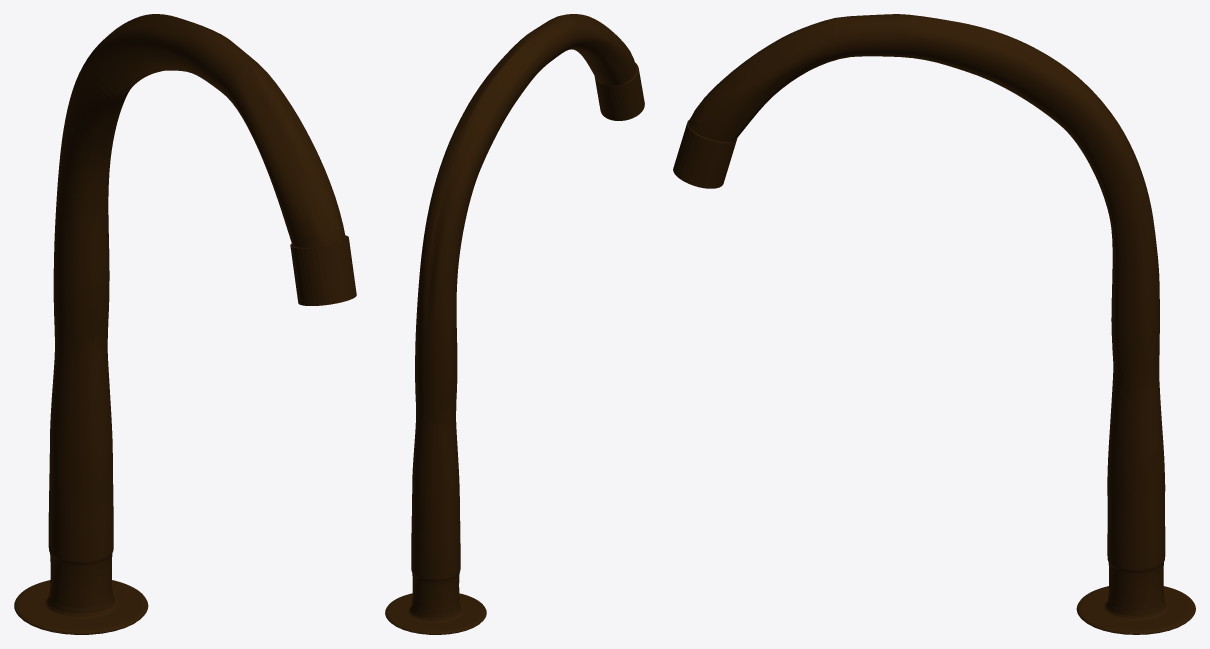
File: Sla.fbx
The picture shows the model from 3 angles, left to right: view 1: azimuth 30°, elevation 25°; view 2: azimuth 150°, elevation 25°; view 3: azimuth 270°, elevation 25°; orthographic projection. The views are drawn at different scales.
Visible parts, largest first — view 1: Torneira, Cylinder; view 2: Torneira, Cylinder; view 3: Torneira, Cylinder.
Boxes of the visible parts, x1,y1,x2,y2 form: Torneira: [14, 14, 345, 634]; Cylinder: [290, 235, 356, 305]; Torneira: [385, 14, 636, 634]; Cylinder: [594, 62, 644, 120]; Torneira: [688, 14, 1195, 634]; Cylinder: [673, 119, 737, 188].
Size of the model in its own units: 367 by 2031 by 1611.
